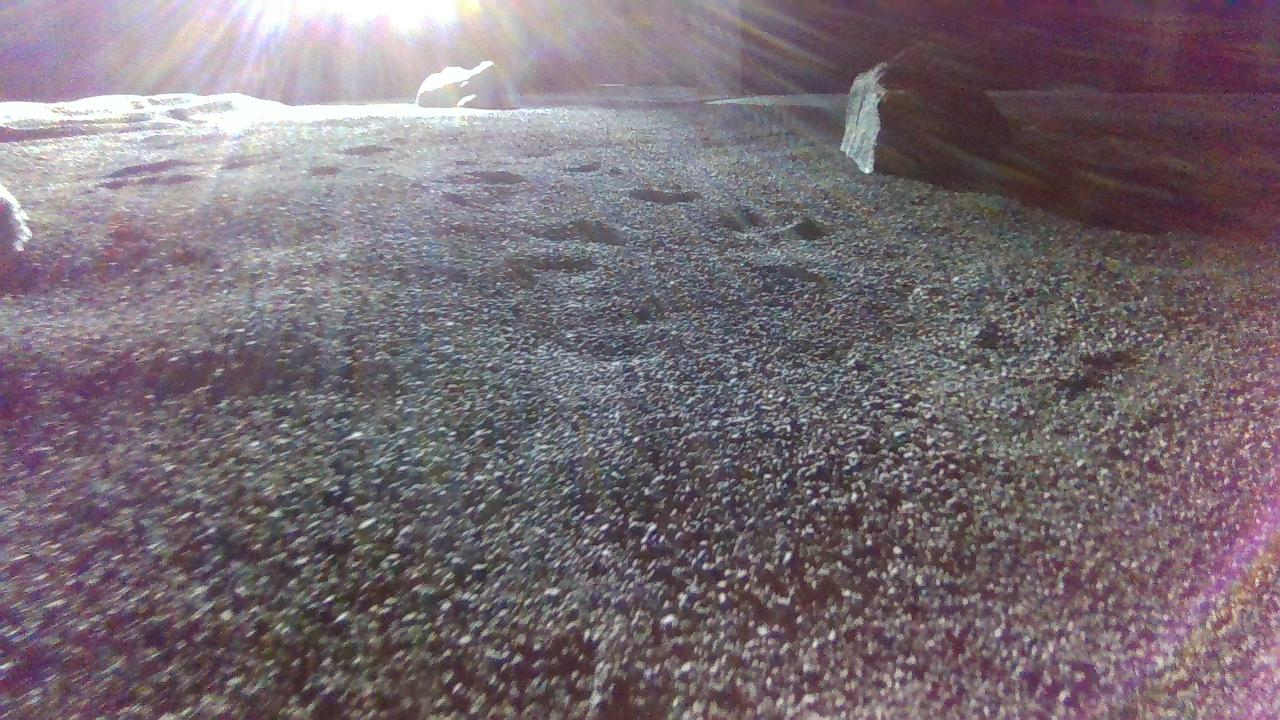rock: (843, 55, 1007, 176), (416, 59, 514, 106)
